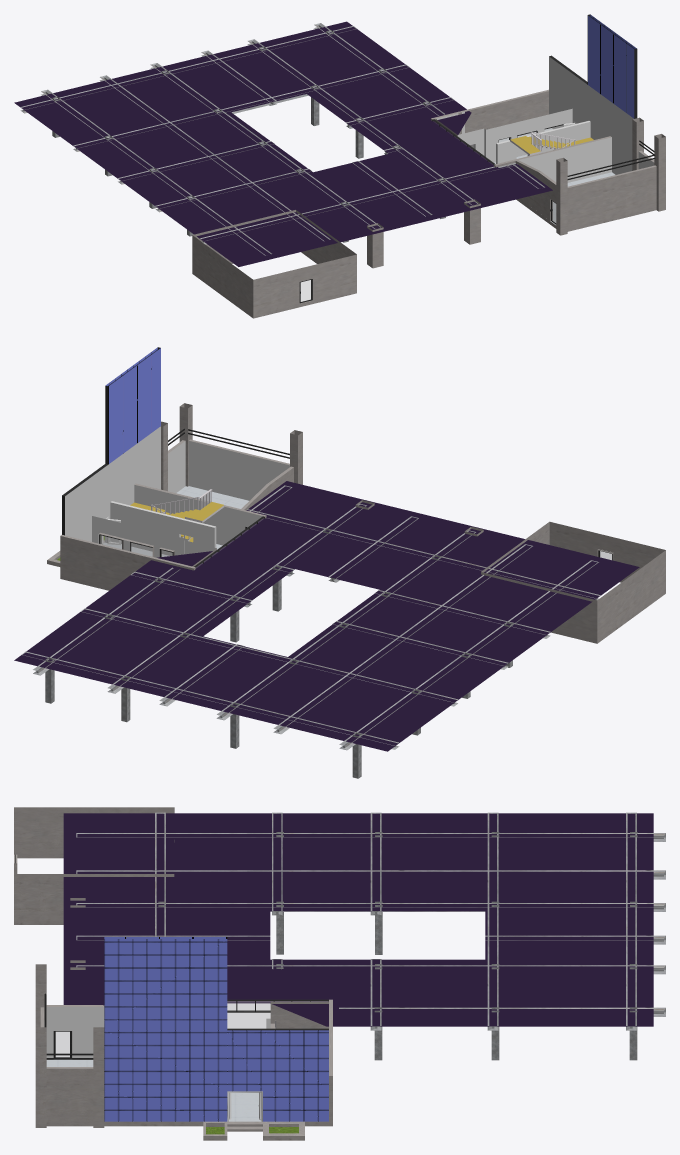
The model's file is POSGRADO-P1OP.glb.
The picture shows the model from 3 angles, top to bottom: view 1: azimuth 30°, elevation 25°; view 2: azimuth 150°, elevation 25°; view 3: azimuth 270°, elevation 25°; orthographic projection. The views are drawn at different scales.
Parts seen in each view (by area): view 1: Plane, Paredes_P1, pilares, Cube.001, Escaleras_p1; view 2: Plane, Paredes_P1, pilares, Cube.001, Escaleras_p1, polySurface81; view 3: Plane, Cube.001, Paredes_P1, pilares, polySurface81, Escaleras_p1.
Boxes of the visible parts, bbox=[...] form: Plane: bbox=[14, 21, 552, 266]; Paredes_P1: bbox=[192, 57, 665, 318]; pilares: bbox=[20, 23, 544, 255]; Cube.001: bbox=[587, 14, 636, 118]; Escaleras_p1: bbox=[299, 14, 637, 303]; Plane: bbox=[14, 481, 639, 751]; Paredes_P1: bbox=[47, 403, 665, 643]; pilares: bbox=[21, 485, 600, 778]; Cube.001: bbox=[106, 347, 160, 464]; Escaleras_p1: bbox=[62, 347, 613, 567]; polySurface81: bbox=[100, 518, 611, 567]; Plane: bbox=[63, 813, 653, 1026]; Cube.001: bbox=[104, 937, 328, 1121]; Paredes_P1: bbox=[14, 807, 332, 1140]; pilares: bbox=[76, 812, 665, 1060]; polySurface81: bbox=[56, 1001, 328, 1056]; Escaleras_p1: bbox=[15, 854, 328, 1057].
Size of the model in its own units: 0.3972 by 0.123 by 0.3879.
Materials: 11 (9 with a texture image).
